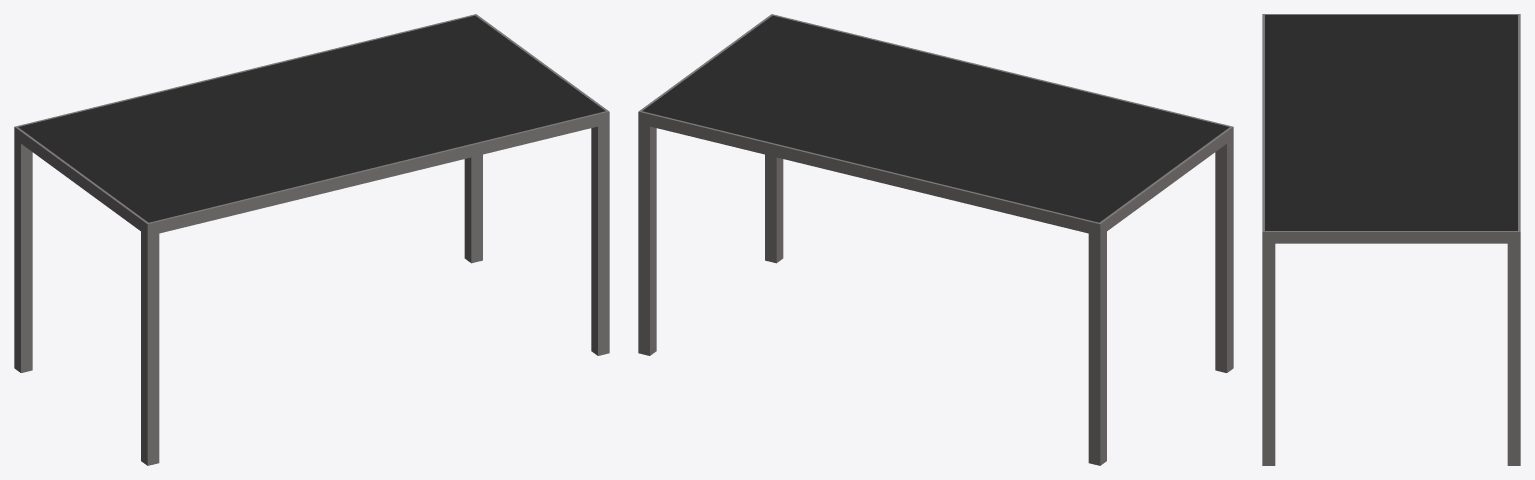
The model's file is stage-platform-big.glb.
3 renders of one model, left to right at view 1: azimuth 30°, elevation 25°; view 2: azimuth 150°, elevation 25°; view 3: azimuth 270°, elevation 25°, orthographic. The views are drawn at different scales.
Parts seen in each view (by area): view 1: stage-platform-big; view 2: stage-platform-big; view 3: stage-platform-big.
Part boxes in pixels (left/top/right/bottom): stage-platform-big: left=14, top=14, right=609, bottom=465; stage-platform-big: left=638, top=14, right=1233, bottom=465; stage-platform-big: left=1262, top=14, right=1520, bottom=465.
Size of the model in its own units: 4 by 2 by 2.
Materials: 1 (1 with a texture image).
